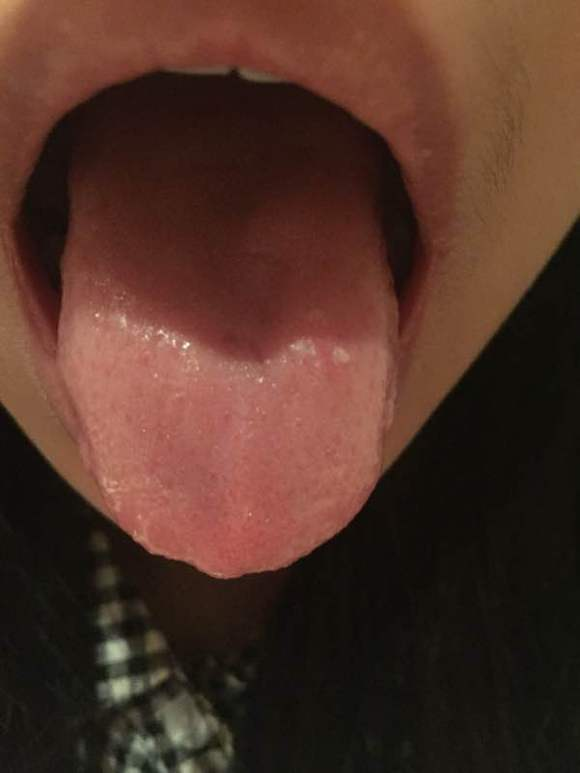chihenshe: (57, 355, 116, 525)
hongshe: (55, 99, 398, 580)
